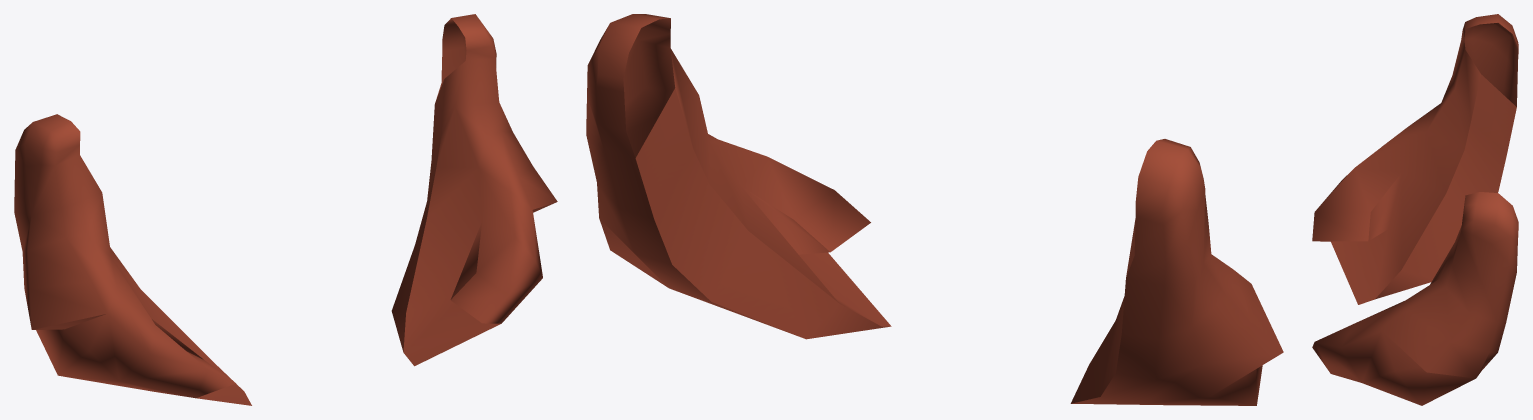
File: Beard_Brown_9.fbx
The picture shows the model from 3 angles, left to right: view 1: azimuth 30°, elevation 25°; view 2: azimuth 150°, elevation 25°; view 3: azimuth 270°, elevation 25°; orthographic projection. The views are drawn at different scales.
Parts seen in each view (by area): view 1: Beard_Brown_9; view 2: Beard_Brown_9; view 3: Beard_Brown_9.
Part boxes in pixels (left/top/right/bottom): Beard_Brown_9: left=14, top=14, right=557, bottom=405; Beard_Brown_9: left=586, top=14, right=1283, bottom=405; Beard_Brown_9: left=1312, top=14, right=1518, bottom=405.
Size of the model in its own units: 58.92 by 28.07 by 22.62.
